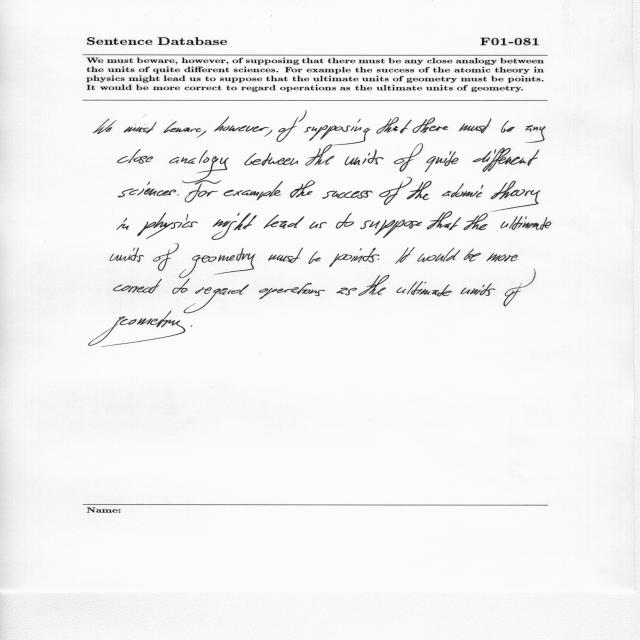word: (89, 314, 185, 347), (179, 248, 255, 278), (169, 150, 229, 183), (184, 285, 249, 314), (473, 148, 540, 172), (137, 213, 198, 239), (304, 119, 370, 143), (491, 181, 541, 212), (306, 143, 371, 166), (503, 269, 536, 306), (212, 213, 257, 240), (224, 181, 283, 200), (360, 220, 422, 238), (259, 283, 325, 299), (329, 248, 380, 267), (277, 111, 307, 142), (379, 178, 412, 206), (396, 281, 452, 297), (118, 182, 176, 197), (394, 143, 423, 172), (185, 180, 221, 203), (169, 279, 190, 314), (163, 121, 206, 138), (425, 151, 459, 172), (501, 216, 552, 230), (244, 153, 298, 166), (153, 244, 179, 271), (113, 279, 162, 293), (359, 275, 390, 296), (427, 212, 461, 231), (442, 183, 483, 198), (376, 117, 412, 134), (418, 248, 461, 262), (412, 117, 448, 133), (264, 215, 304, 229), (118, 149, 153, 164), (268, 248, 303, 263), (110, 248, 144, 263), (459, 119, 491, 134), (407, 181, 432, 200), (461, 283, 496, 296), (290, 180, 315, 198), (323, 190, 373, 199), (463, 214, 488, 231), (124, 122, 157, 133), (93, 119, 117, 134), (526, 125, 546, 143), (223, 125, 270, 132), (336, 213, 354, 229), (486, 253, 518, 262), (368, 150, 384, 165), (400, 247, 415, 263), (214, 117, 229, 132), (396, 247, 409, 264), (464, 249, 481, 262), (501, 120, 515, 133), (336, 288, 357, 296), (309, 251, 321, 264), (117, 218, 129, 230), (309, 222, 327, 229), (264, 130, 272, 137), (177, 195, 179, 196), (191, 325, 192, 327)
